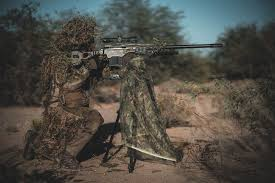Gun: (106, 37, 223, 64)
